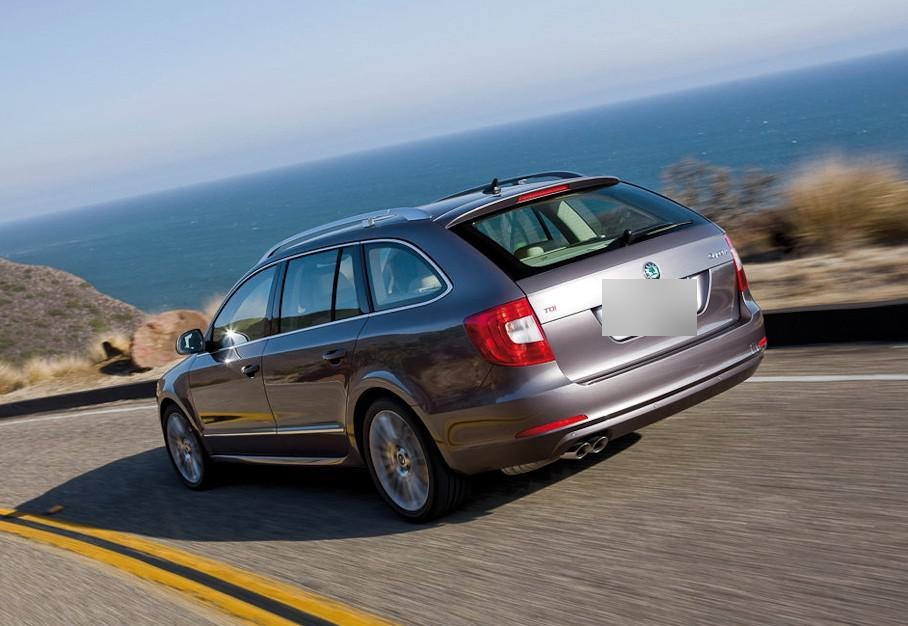Wagon: (156, 171, 768, 523)
